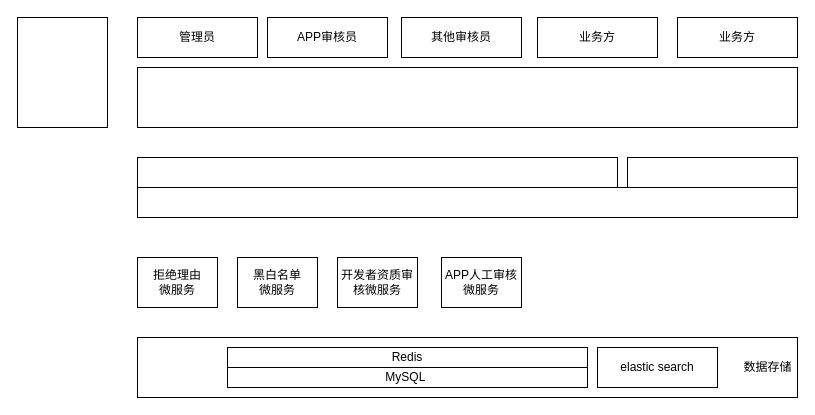
Some shapes in this 815 by 415 pixel diagram are drawn without their labels. Here are the shapes that lost their labels. From the top down, the centre of each, then its label:
At point (62, 72): "应用层".
At point (467, 97): "Web浏览器 IE、Chrome、Firefox，Safari".
At point (377, 172): "web网关".
At point (712, 172): "api网关".
At point (467, 202): "统一认证及鉴权服务".
